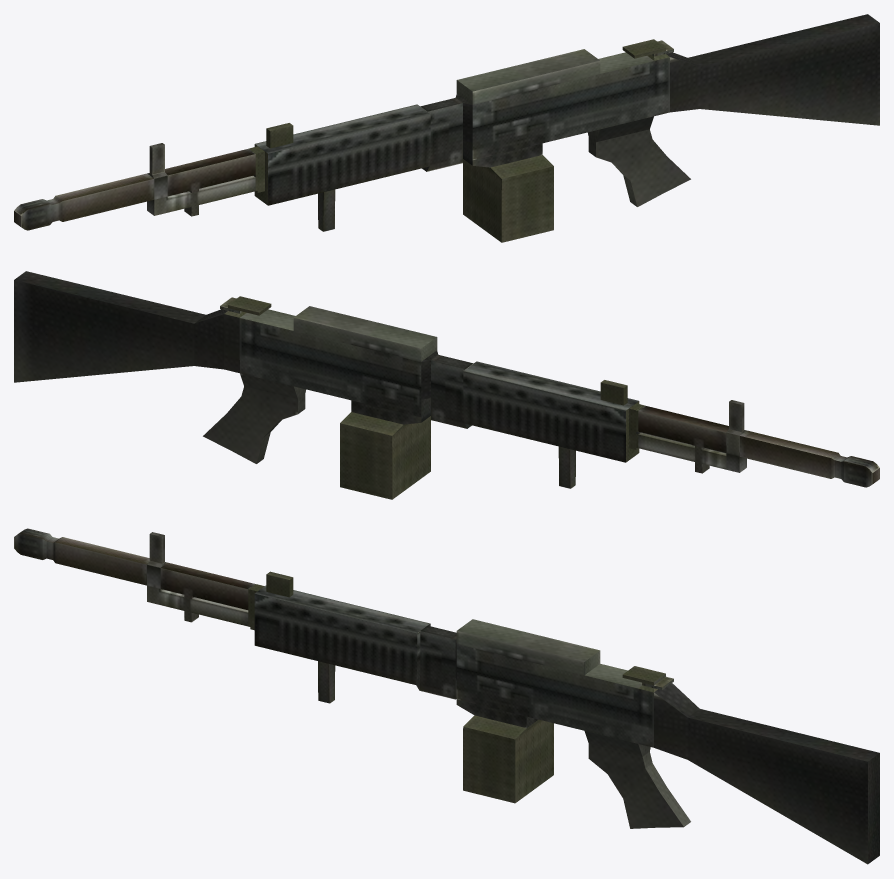
The model's file is Lmg.fbx.
3 views of the same model, one above another, from view 1: azimuth 30°, elevation 25°; view 2: azimuth 150°, elevation 25°; view 3: azimuth 330°, elevation 25° (orthographic).
Visible parts, largest first — view 1: Cube; view 2: Cube; view 3: Cube.
Part boxes in pixels (left/top/right/bottom): Cube: left=14, top=14, right=879, bottom=242; Cube: left=14, top=271, right=879, bottom=499; Cube: left=14, top=528, right=879, bottom=864.
Bounding box in the file's own units: 483 × 94.66 × 37.8.
